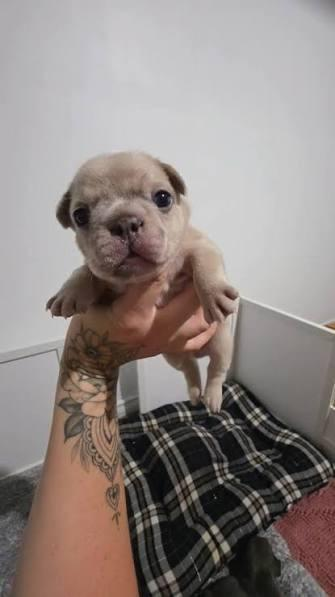puppy-dog: (45, 151, 240, 413)
